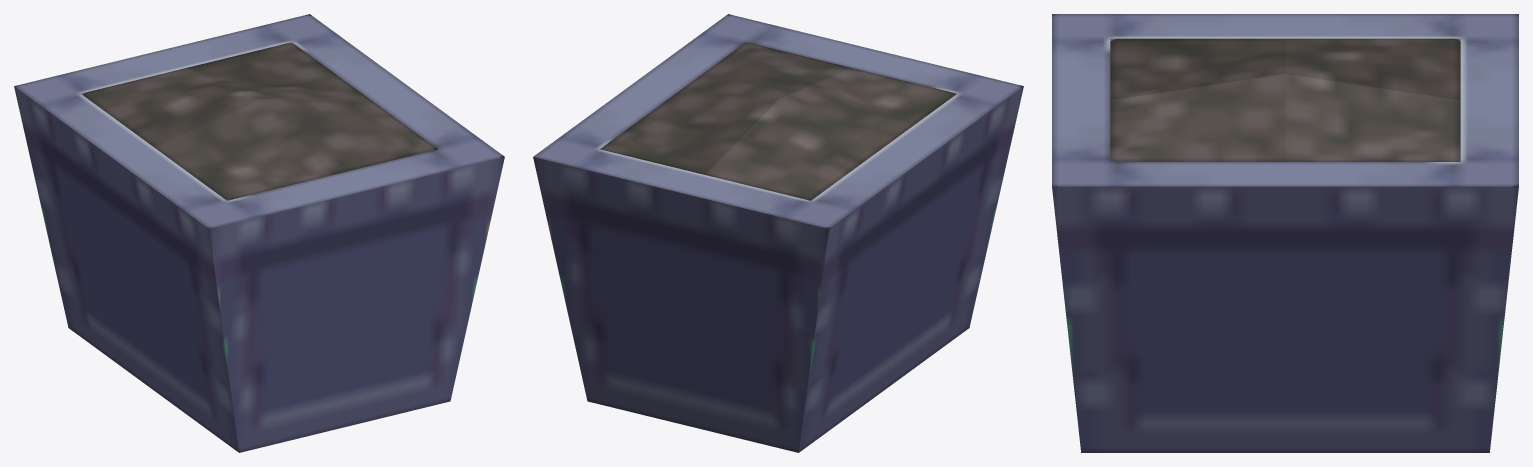
The model's file is Wagon.obj.
3 renders of one model, left to right at view 1: azimuth 30°, elevation 25°; view 2: azimuth 150°, elevation 25°; view 3: azimuth 270°, elevation 25°, orthographic. The views are drawn at different scales.
Visible parts, largest first — view 1: cuboid; view 2: cuboid; view 3: cuboid.
Boxes of the visible parts, box(x1,y1,x2,y2) form: cuboid: box(14, 14, 504, 452); cuboid: box(533, 14, 1023, 452); cuboid: box(1052, 14, 1518, 452).
Bounding box in the file's own units: 0.875 × 0.75 × 1.
1 material, 1 textured.
